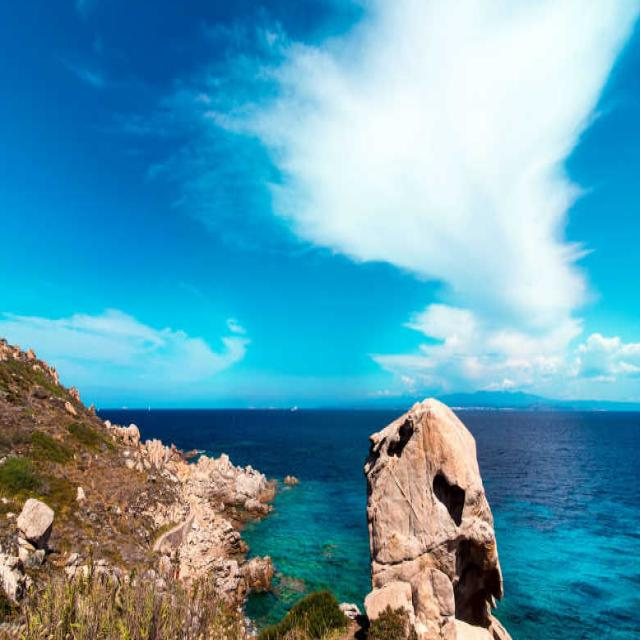reef: (366, 391, 513, 640)
